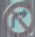Don't turn right: (3, 1, 33, 36)
